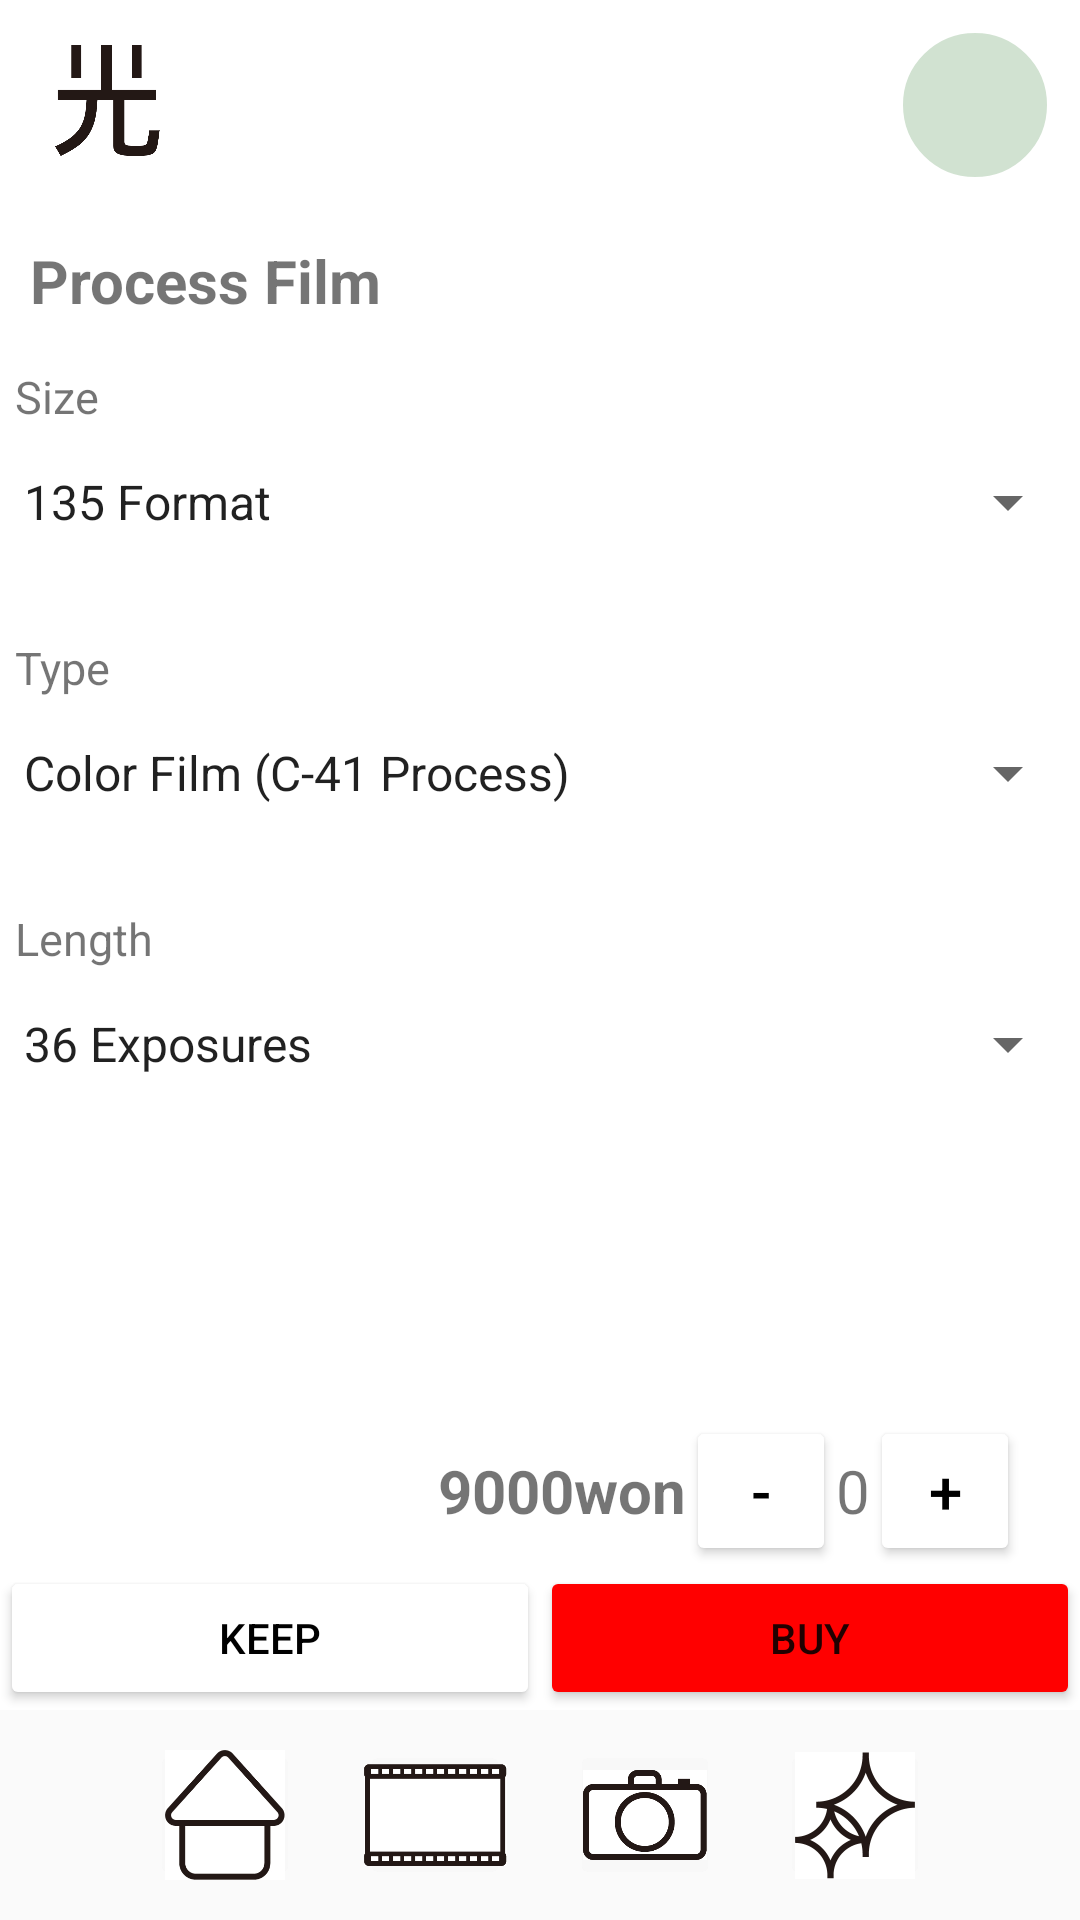

Icons on this 1080x1920 Android screen, each with the point to tap as [x,y]:
camera: [645,1815]
film: [435,1815]
home: [225,1815]
